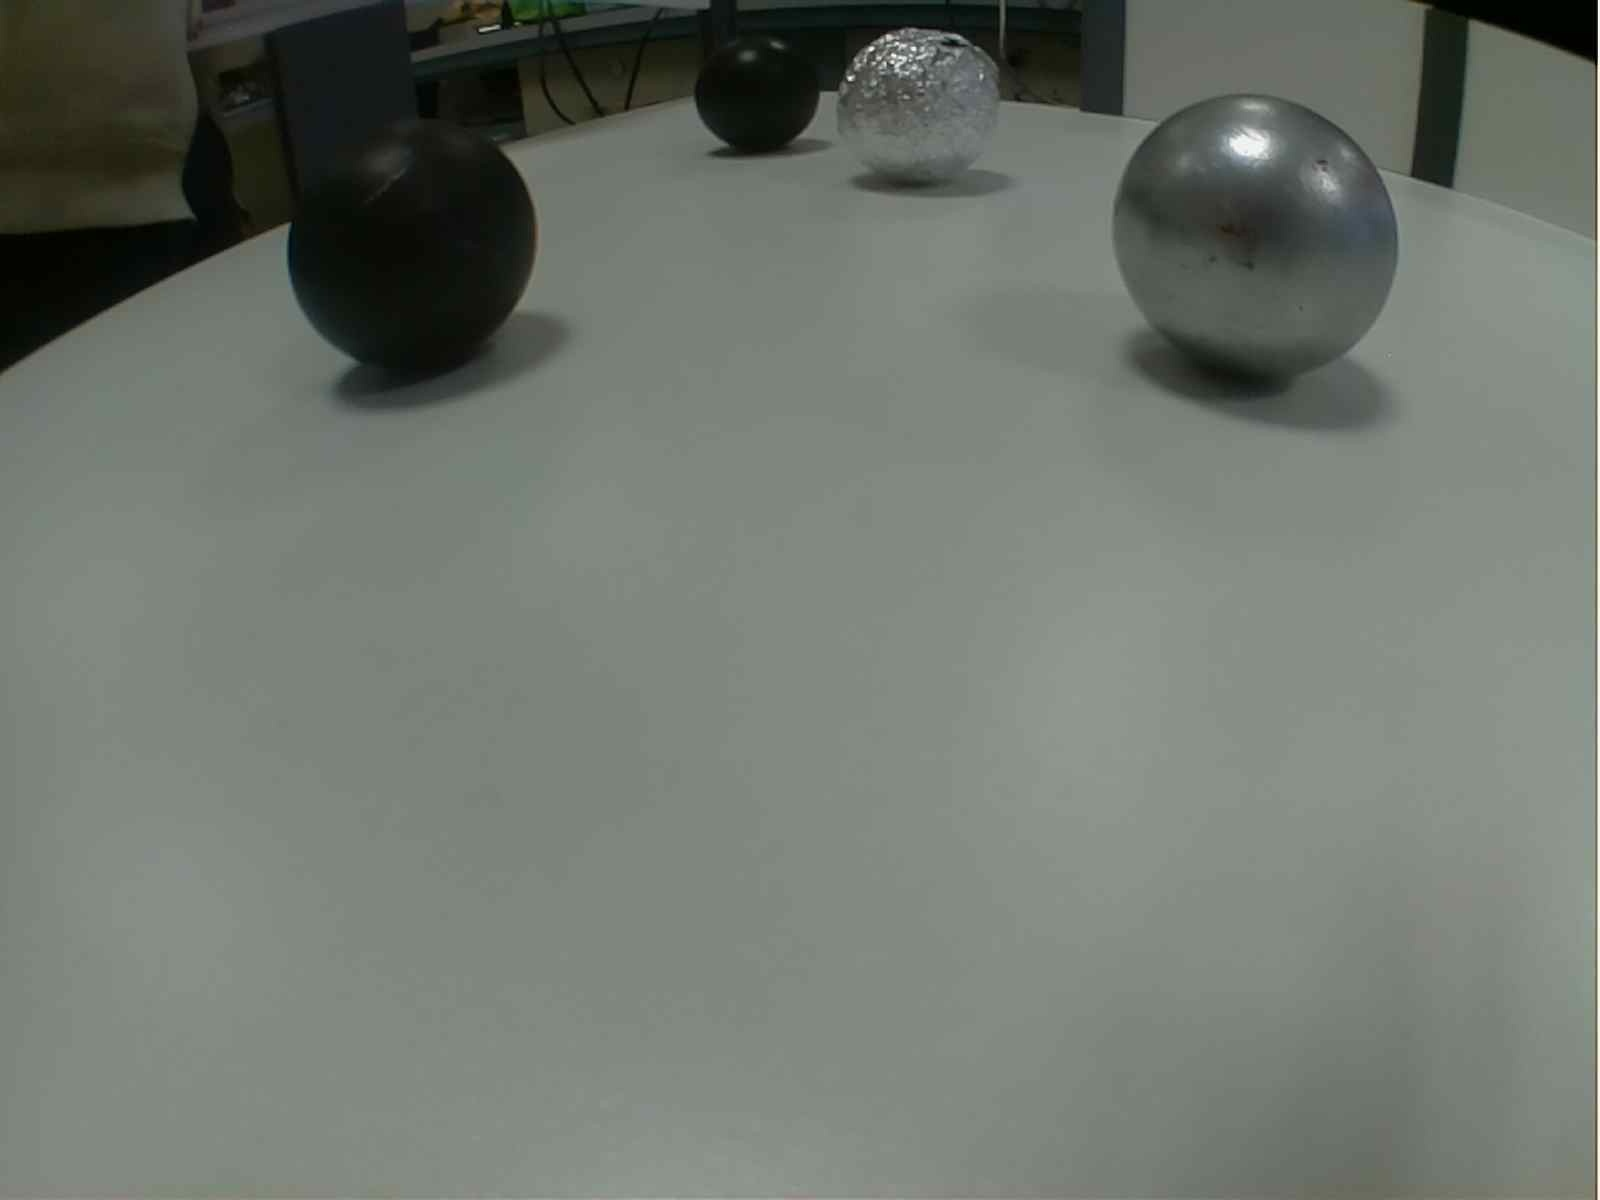bianca: (1110, 93, 1407, 389), (840, 26, 1004, 190)
nera: (283, 115, 539, 371), (694, 26, 824, 156)
